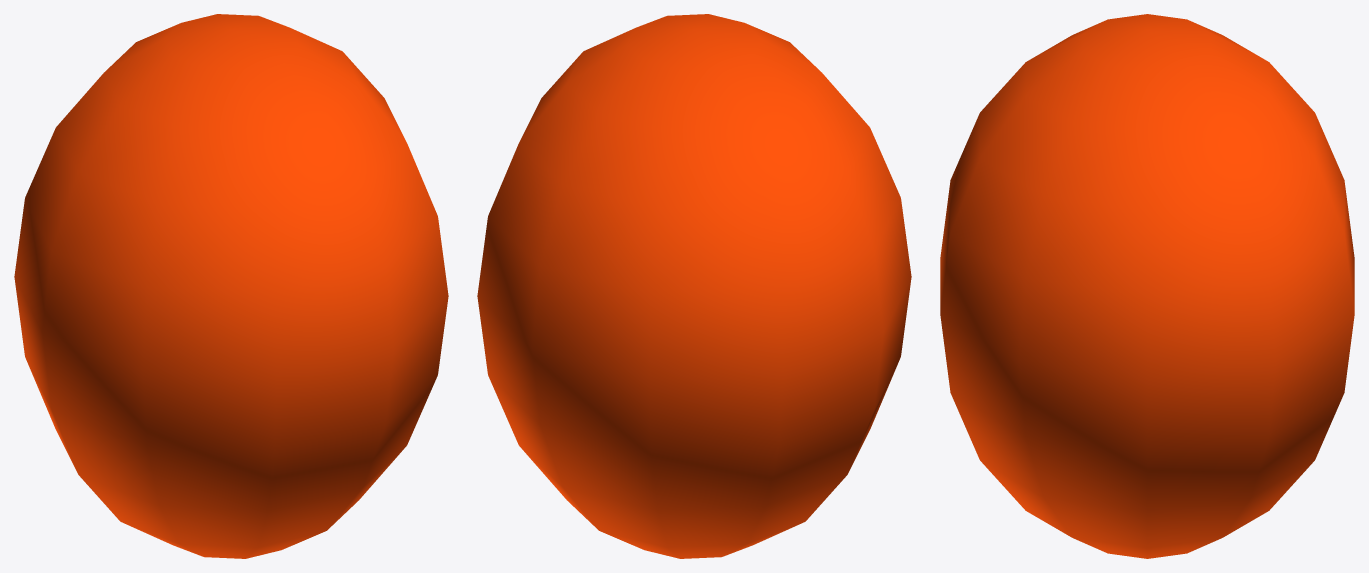
The model's file is emberkit_stage2.obj.
3 renders of one model, left to right at view 1: azimuth 30°, elevation 25°; view 2: azimuth 150°, elevation 25°; view 3: azimuth 270°, elevation 25°, orthographic.
Bounding box in the file's own units: 2 × 2.6 × 1.9.
